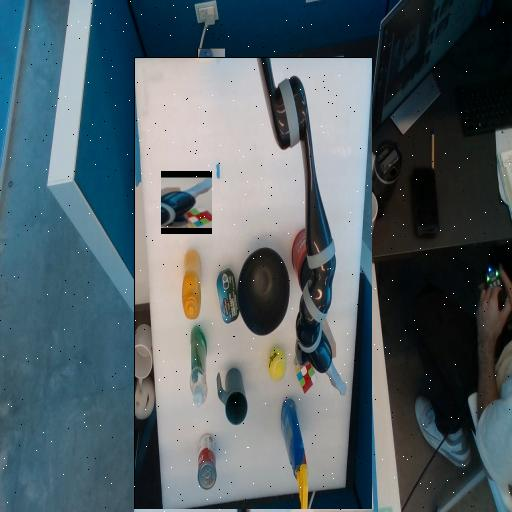bowl: (218, 232, 268, 318)
cleanser: (299, 193, 316, 209)
coffee_can: (175, 283, 214, 322)
jaco: (161, 178, 212, 229)
meat_can: (267, 244, 289, 298)
mug: (259, 143, 289, 199)
mustard_bottle: (306, 249, 324, 317)
rubik: (190, 174, 212, 217)
soup_can: (290, 97, 308, 115)
tennis_ball: (221, 188, 238, 218)
windex: (198, 49, 225, 167)
wooden_block: (170, 219, 195, 244)
workspace: (134, 58, 372, 509)
